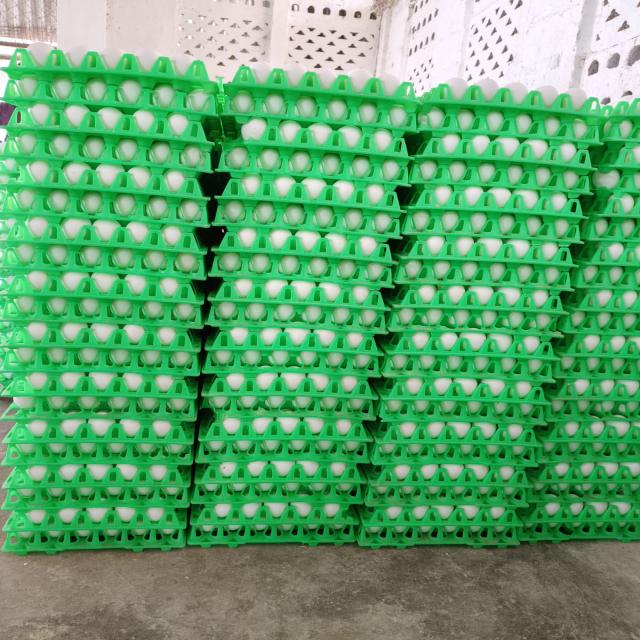egg_tray: (522, 122, 639, 541), (188, 324, 377, 546), (358, 332, 552, 546), (3, 168, 206, 324), (4, 271, 196, 419), (2, 190, 204, 324), (3, 192, 203, 326), (196, 327, 378, 469), (3, 418, 193, 554), (3, 417, 193, 552), (370, 332, 554, 464), (3, 160, 207, 278), (204, 280, 383, 414), (190, 415, 368, 545), (358, 419, 537, 546), (207, 226, 390, 348), (203, 278, 384, 399), (412, 81, 592, 196), (394, 185, 582, 294), (4, 43, 219, 130), (388, 234, 572, 335), (7, 104, 210, 192), (387, 241, 568, 339), (377, 330, 555, 429), (3, 460, 189, 554), (203, 280, 383, 376), (4, 105, 211, 186), (203, 322, 378, 417), (363, 421, 534, 518), (211, 200, 399, 288), (9, 94, 210, 176), (377, 330, 554, 423), (394, 208, 577, 296), (188, 459, 364, 546), (358, 458, 530, 547), (358, 457, 529, 546), (394, 208, 577, 291), (221, 62, 419, 136), (220, 118, 409, 195), (521, 420, 639, 541), (522, 419, 639, 541), (207, 258, 386, 337), (3, 322, 198, 394), (219, 118, 409, 190), (210, 253, 384, 331), (0, 216, 206, 281), (403, 184, 582, 258), (402, 185, 582, 257), (418, 78, 603, 148), (3, 163, 207, 226), (418, 79, 604, 148), (561, 196, 639, 358), (210, 227, 393, 296), (0, 173, 208, 232), (2, 269, 203, 328), (0, 271, 203, 329), (410, 133, 593, 197), (212, 224, 391, 288), (401, 185, 583, 246), (560, 195, 639, 333), (564, 189, 639, 334), (5, 43, 218, 94), (0, 322, 201, 376), (191, 459, 365, 521), (216, 174, 402, 232), (547, 308, 639, 422), (206, 278, 386, 334), (386, 281, 564, 337), (2, 370, 197, 421), (569, 191, 639, 333), (3, 415, 194, 466), (5, 160, 207, 208), (388, 282, 562, 336), (3, 459, 190, 509), (201, 367, 376, 420), (379, 331, 556, 383), (529, 420, 639, 503), (202, 326, 381, 377), (191, 452, 365, 504), (2, 506, 187, 554), (221, 174, 398, 224), (218, 176, 401, 224), (212, 197, 401, 243), (548, 326, 639, 421), (195, 414, 371, 463), (364, 457, 531, 508), (375, 376, 548, 424), (191, 457, 364, 504), (369, 418, 538, 466), (187, 501, 358, 547), (218, 173, 399, 214), (357, 504, 522, 548), (578, 170, 639, 289), (558, 249, 639, 335), (536, 416, 639, 480), (575, 190, 639, 290), (558, 266, 639, 334), (520, 499, 639, 542), (579, 184, 639, 262), (553, 329, 639, 380), (546, 374, 639, 421), (580, 195, 639, 258), (581, 192, 639, 247), (602, 99, 639, 173), (593, 137, 639, 196), (125, 276, 171, 323), (594, 161, 639, 196), (603, 98, 639, 138), (379, 432, 433, 458), (274, 228, 330, 251), (0, 141, 17, 209), (0, 150, 18, 212), (335, 232, 385, 254), (0, 141, 19, 193), (0, 142, 15, 207), (0, 143, 18, 197), (248, 483, 301, 501), (0, 320, 13, 388), (0, 136, 17, 185), (0, 323, 12, 388), (578, 104, 599, 141), (388, 377, 423, 398), (0, 323, 12, 384), (78, 418, 105, 444), (9, 60, 36, 85), (42, 418, 76, 437), (210, 296, 235, 320), (383, 397, 409, 419), (228, 280, 251, 302), (493, 460, 514, 483), (451, 431, 482, 445), (151, 421, 176, 437), (245, 229, 271, 244), (156, 85, 174, 106), (615, 484, 639, 499), (164, 278, 188, 293), (124, 80, 140, 102), (0, 316, 13, 343), (518, 467, 527, 505), (18, 420, 42, 434), (51, 249, 68, 268), (110, 420, 134, 431), (0, 321, 12, 343), (193, 89, 206, 107), (58, 78, 76, 91), (0, 322, 11, 342), (0, 279, 6, 315), (524, 92, 542, 104), (5, 303, 18, 319), (29, 221, 46, 233), (0, 370, 12, 387), (216, 362, 230, 375), (130, 73, 148, 83), (0, 323, 10, 341), (283, 204, 300, 214), (0, 212, 6, 239), (0, 346, 7, 369), (0, 344, 7, 367), (592, 249, 604, 262), (518, 382, 532, 393), (326, 492, 344, 500), (185, 304, 196, 317), (158, 199, 169, 212), (130, 201, 143, 212), (0, 213, 6, 236), (236, 396, 251, 405), (558, 249, 570, 260), (0, 344, 6, 366), (0, 184, 6, 206), (52, 52, 63, 64), (260, 202, 273, 212), (0, 217, 5, 242), (0, 214, 5, 239), (0, 346, 6, 366), (0, 372, 10, 384), (625, 150, 635, 162), (0, 373, 10, 385), (91, 78, 105, 86), (236, 226, 246, 237), (119, 280, 126, 295), (534, 107, 543, 118), (0, 373, 9, 384), (225, 494, 241, 500), (371, 476, 380, 486), (216, 350, 226, 359), (206, 496, 221, 502), (473, 242, 481, 253), (291, 398, 302, 406), (314, 491, 325, 499), (530, 248, 541, 255), (220, 202, 231, 208), (95, 94, 103, 102), (351, 340, 359, 348), (294, 338, 302, 346), (233, 200, 241, 208), (503, 450, 512, 457), (484, 431, 493, 438), (349, 494, 358, 501), (289, 256, 299, 262), (26, 421, 34, 428), (511, 474, 518, 482), (309, 254, 313, 268), (251, 245, 259, 252), (151, 180, 158, 188), (171, 205, 178, 213), (427, 423, 438, 428), (127, 91, 136, 97), (140, 422, 149, 428), (50, 170, 59, 176), (0, 351, 4, 364), (425, 97, 431, 105), (445, 212, 457, 216), (364, 240, 372, 246), (265, 342, 273, 348), (372, 452, 381, 457), (497, 431, 503, 438), (480, 217, 486, 224), (34, 105, 48, 108), (303, 291, 308, 299), (318, 400, 326, 405), (246, 264, 254, 269), (10, 160, 15, 168), (357, 215, 362, 223), (476, 441, 488, 444), (630, 353, 636, 359), (47, 249, 51, 258), (90, 424, 95, 431), (361, 269, 368, 274), (21, 52, 28, 57), (327, 212, 332, 219), (327, 218, 332, 225), (0, 374, 6, 379), (0, 280, 5, 286), (37, 108, 43, 113), (447, 432, 452, 438), (367, 396, 372, 402), (323, 342, 329, 347), (447, 452, 454, 456), (600, 174, 607, 178), (249, 256, 256, 260), (122, 201, 129, 205), (54, 205, 63, 208), (596, 488, 601, 493), (269, 401, 274, 406), (598, 311, 603, 316), (147, 89, 152, 94), (94, 204, 99, 209), (312, 367, 317, 372), (70, 312, 74, 318), (122, 194, 128, 198), (519, 86, 523, 92), (208, 83, 214, 87), (364, 412, 370, 416), (225, 376, 229, 382), (594, 174, 597, 181), (24, 174, 29, 178), (352, 221, 356, 226), (30, 84, 35, 88), (0, 349, 5, 353), (323, 344, 328, 348), (634, 146, 639, 150), (509, 459, 513, 464), (129, 205, 133, 210), (95, 435, 101, 438), (106, 430, 109, 436), (527, 452, 530, 458), (633, 314, 636, 320), (65, 424, 68, 430), (278, 263, 281, 269), (250, 240, 253, 246), (214, 379, 220, 382), (113, 440, 117, 444), (265, 344, 269, 348), (171, 178, 175, 182), (81, 86, 85, 90), (417, 371, 421, 375), (410, 366, 414, 370), (510, 220, 514, 224), (259, 250, 263, 254), (234, 379, 238, 383), (631, 135, 639, 137), (138, 172, 143, 175), (159, 425, 162, 430), (59, 423, 62, 428), (92, 54, 97, 57), (66, 165, 71, 168), (452, 211, 457, 214), (58, 194, 61, 199), (367, 392, 370, 397), (340, 367, 343, 372), (271, 336, 274, 341), (297, 217, 302, 220), (213, 399, 220, 401), (370, 264, 377, 266), (247, 224, 254, 226), (3, 187, 7, 190), (543, 441, 546, 445), (551, 252, 554, 256), (364, 298, 366, 304), (276, 393, 280, 396), (120, 200, 124, 203), (116, 196, 119, 200), (381, 425, 383, 431), (87, 419, 91, 422), (199, 274, 203, 277), (345, 255, 349, 258), (205, 365, 208, 369), (433, 424, 437, 427), (295, 331, 299, 334), (354, 210, 357, 214), (30, 256, 33, 260), (546, 110, 548, 115), (236, 260, 241, 262), (291, 333, 293, 338), (381, 234, 383, 239), (323, 207, 328, 209), (351, 215, 354, 218), (26, 83, 29, 86), (514, 434, 517, 437), (10, 81, 13, 84), (601, 165, 604, 168), (547, 349, 550, 352), (260, 389, 263, 392), (327, 352, 330, 355), (131, 100, 135, 102), (114, 454, 116, 458), (459, 434, 463, 436), (272, 388, 274, 392), (521, 95, 523, 99), (284, 256, 286, 260), (28, 60, 30, 64), (368, 488, 372, 490), (285, 259, 287, 263), (261, 259, 263, 263), (283, 256, 287, 258), (217, 406, 219, 410), (336, 456, 340, 458), (542, 88, 549, 89), (586, 274, 588, 277), (589, 276, 591, 279), (276, 178, 279, 180), (607, 488, 610, 490), (563, 487, 565, 490), (617, 366, 619, 369), (545, 97, 547, 100), (337, 265, 339, 268), (177, 107, 179, 110), (23, 230, 26, 232), (198, 215, 201, 217), (247, 257, 250, 259), (358, 222, 361, 224), (282, 212, 285, 214), (120, 198, 123, 200), (236, 406, 239, 408), (180, 322, 183, 324), (638, 130, 639, 136), (614, 254, 616, 257), (334, 364, 337, 366), (357, 211, 359, 214), (636, 146, 639, 148), (213, 297, 214, 302), (187, 201, 192, 202), (154, 182, 156, 184), (587, 267, 589, 269), (331, 216, 333, 218), (635, 444, 636, 448), (434, 424, 436, 426), (177, 444, 179, 446), (19, 318, 23, 319), (171, 216, 173, 218), (630, 259, 632, 261), (7, 224, 9, 226), (345, 261, 349, 262), (293, 256, 295, 258), (52, 240, 54, 242), (487, 489, 489, 491), (427, 236, 429, 238), (62, 204, 64, 206), (366, 409, 368, 411), (213, 398, 215, 400), (11, 342, 13, 344), (197, 305, 198, 309), (203, 466, 205, 468), (300, 453, 302, 455), (64, 96, 67, 97), (586, 487, 589, 488), (350, 401, 351, 404), (611, 361, 614, 362), (620, 355, 623, 356), (594, 354, 597, 355), (374, 434, 375, 437), (258, 254, 259, 257), (198, 63, 201, 64), (460, 216, 463, 217), (292, 372, 295, 373), (153, 225, 156, 226), (245, 514, 248, 515), (233, 247, 236, 248), (334, 222, 337, 223), (314, 213, 315, 216), (157, 185, 159, 186), (327, 220, 328, 222), (300, 216, 301, 218), (329, 181, 331, 182), (407, 243, 409, 244), (0, 244, 1, 246), (0, 214, 1, 216), (0, 162, 1, 164), (539, 147, 541, 148), (218, 407, 220, 408), (106, 176, 108, 177), (9, 91, 10, 93), (54, 245, 56, 246), (72, 180, 73, 182), (367, 494, 369, 495), (518, 215, 519, 217), (229, 285, 231, 286), (245, 260, 246, 262), (219, 260, 221, 261), (242, 406, 243, 408), (254, 398, 255, 400), (158, 225, 160, 226), (177, 345, 179, 346), (458, 423, 460, 424), (18, 110, 20, 111), (360, 365, 362, 366), (263, 336, 265, 337), (347, 256, 349, 257), (35, 203, 37, 204), (518, 216, 519, 217), (429, 206, 430, 207), (547, 249, 548, 250), (605, 258, 606, 259), (171, 445, 172, 446), (525, 456, 526, 457), (225, 405, 226, 406), (590, 367, 591, 368), (620, 323, 621, 324), (564, 105, 565, 106), (565, 96, 566, 97), (18, 91, 19, 92), (478, 478, 479, 479), (416, 334, 417, 335), (472, 214, 473, 215), (558, 233, 559, 234), (429, 205, 430, 206), (265, 265, 266, 266), (203, 498, 204, 499), (323, 489, 324, 490), (307, 469, 308, 470), (249, 418, 250, 419), (302, 336, 303, 337), (454, 478, 455, 479), (605, 158, 606, 159), (577, 325, 578, 326), (143, 236, 143, 238), (140, 228, 141, 228), (398, 212, 398, 214), (469, 239, 472, 239), (329, 288, 330, 288), (461, 247, 461, 248), (36, 172, 37, 172), (133, 168, 135, 168), (356, 292, 357, 292), (505, 458, 506, 458), (478, 450, 479, 450), (430, 443, 432, 443), (409, 423, 412, 423), (611, 468, 612, 468), (603, 372, 603, 372), (281, 190, 281, 190), (196, 223, 197, 223), (594, 322, 594, 323), (525, 90, 525, 94), (606, 292, 608, 292), (611, 172, 615, 172), (639, 165, 639, 166), (0, 303, 1, 303), (550, 394, 550, 394), (154, 430, 155, 430), (308, 232, 313, 232), (105, 170, 106, 170), (14, 82, 14, 84), (54, 81, 54, 82), (130, 64, 130, 66), (50, 60, 50, 61), (156, 181, 156, 181), (410, 430, 410, 430), (485, 394, 485, 395), (481, 394, 482, 394), (400, 394, 402, 394), (388, 369, 388, 370), (471, 210, 472, 210), (483, 216, 483, 218), (236, 312, 237, 312), (503, 240, 503, 242), (292, 274, 292, 274), (252, 271, 252, 273), (330, 238, 330, 240), (343, 349, 343, 351), (87, 274, 87, 276), (183, 330, 183, 333), (254, 512, 254, 512), (251, 490, 252, 490), (324, 488, 326, 488), (330, 487, 330, 488), (263, 487, 263, 488), (298, 470, 299, 470), (271, 281, 274, 281), (245, 419, 246, 419), (292, 220, 292, 222), (327, 230, 328, 230), (281, 213, 281, 214), (236, 208, 237, 208), (201, 276, 201, 276), (86, 194, 90, 194), (19, 194, 19, 195)
